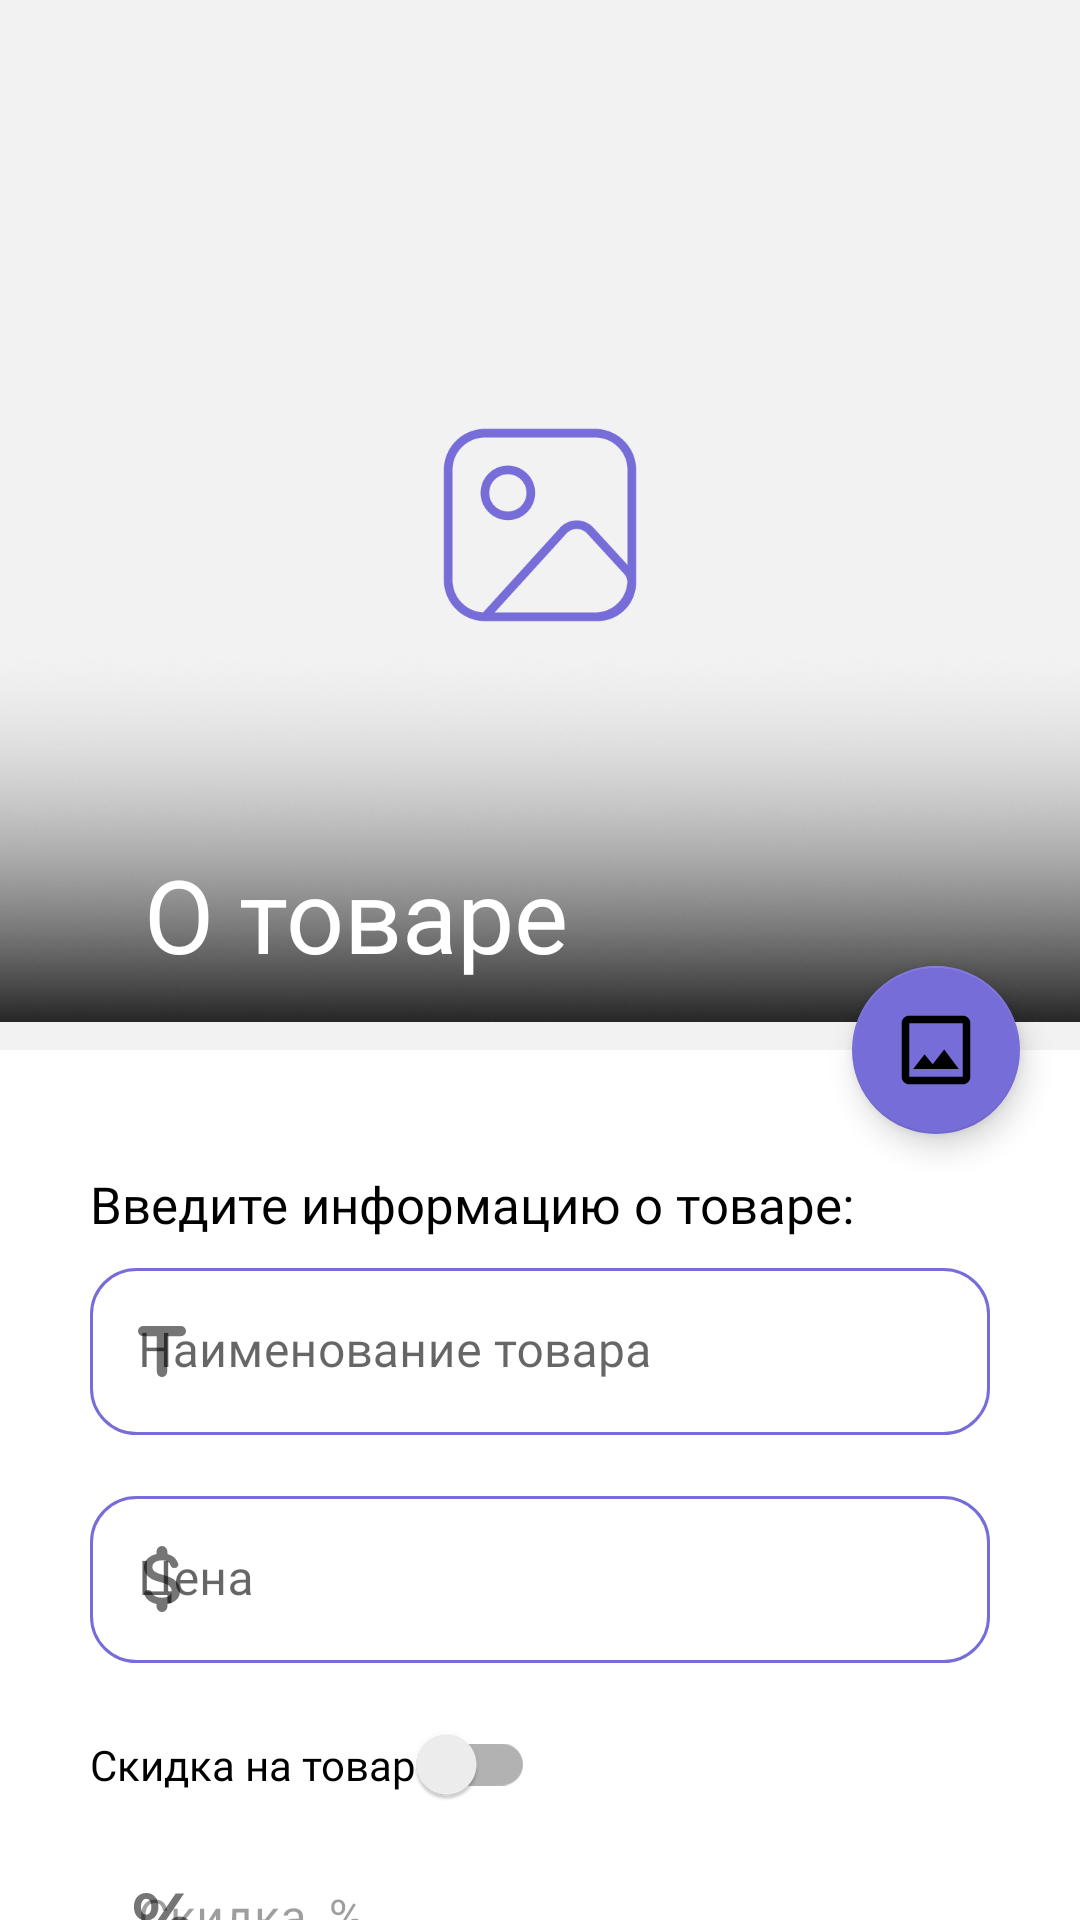

Icon click points for this 1080px×1920px phone screenshot, format (x,y):
choose fab: (936,1050)
